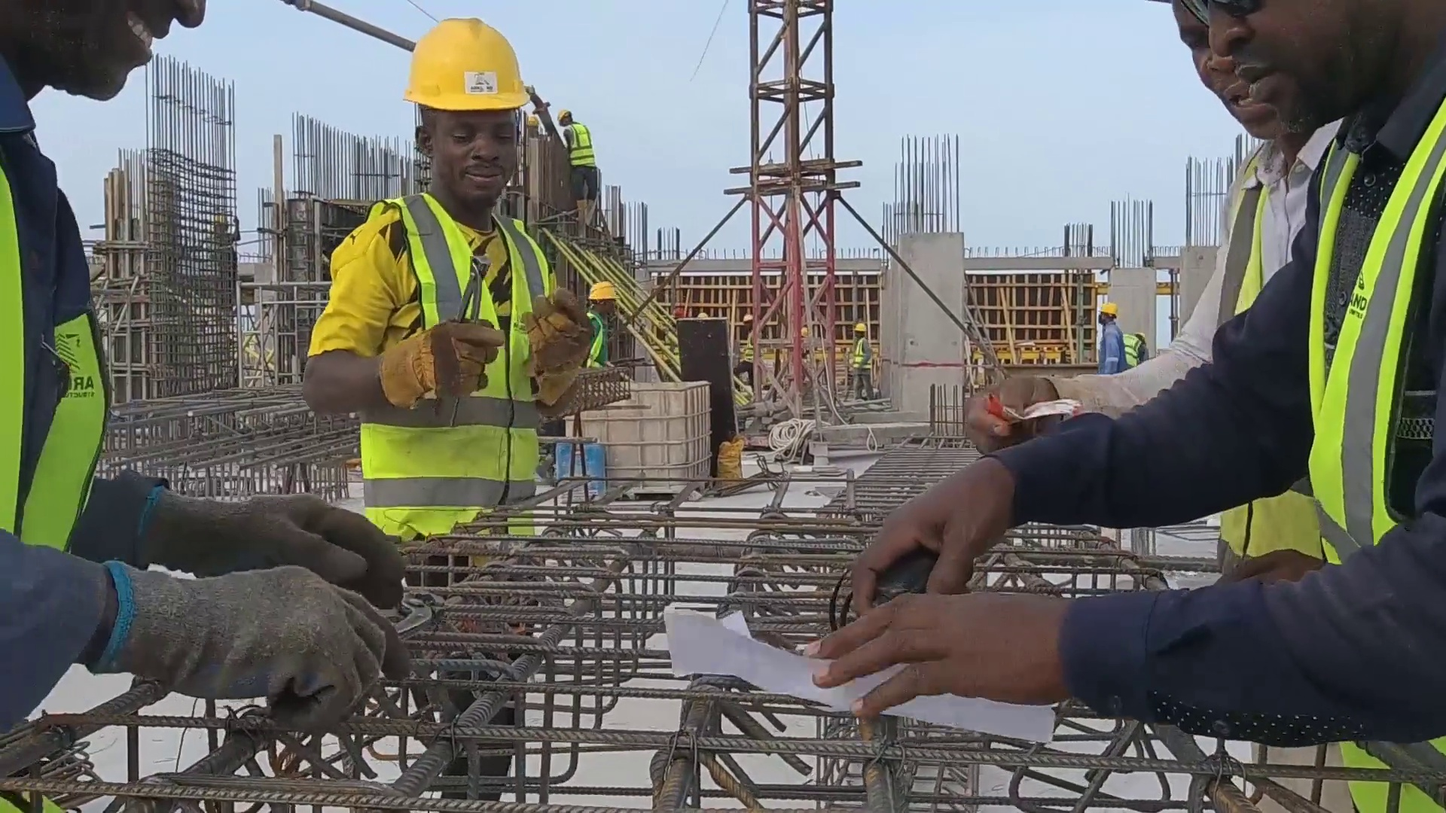helmet: (403, 16, 533, 111), (587, 282, 620, 300), (1097, 302, 1119, 316), (557, 109, 573, 124), (853, 322, 868, 333)
person: (804, 0, 1446, 813), (1, 1, 416, 731), (951, 1, 1338, 585), (298, 13, 600, 634), (557, 110, 601, 227), (585, 283, 620, 369), (1095, 301, 1129, 375), (848, 322, 877, 402), (1121, 332, 1149, 368)
